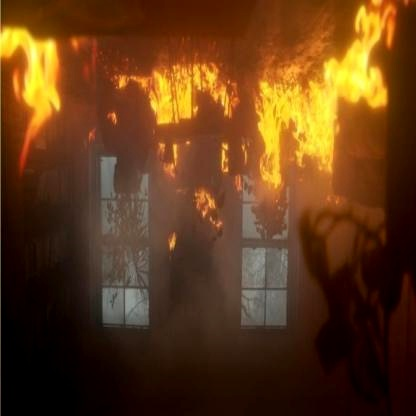fire: (3, 6, 416, 247)
